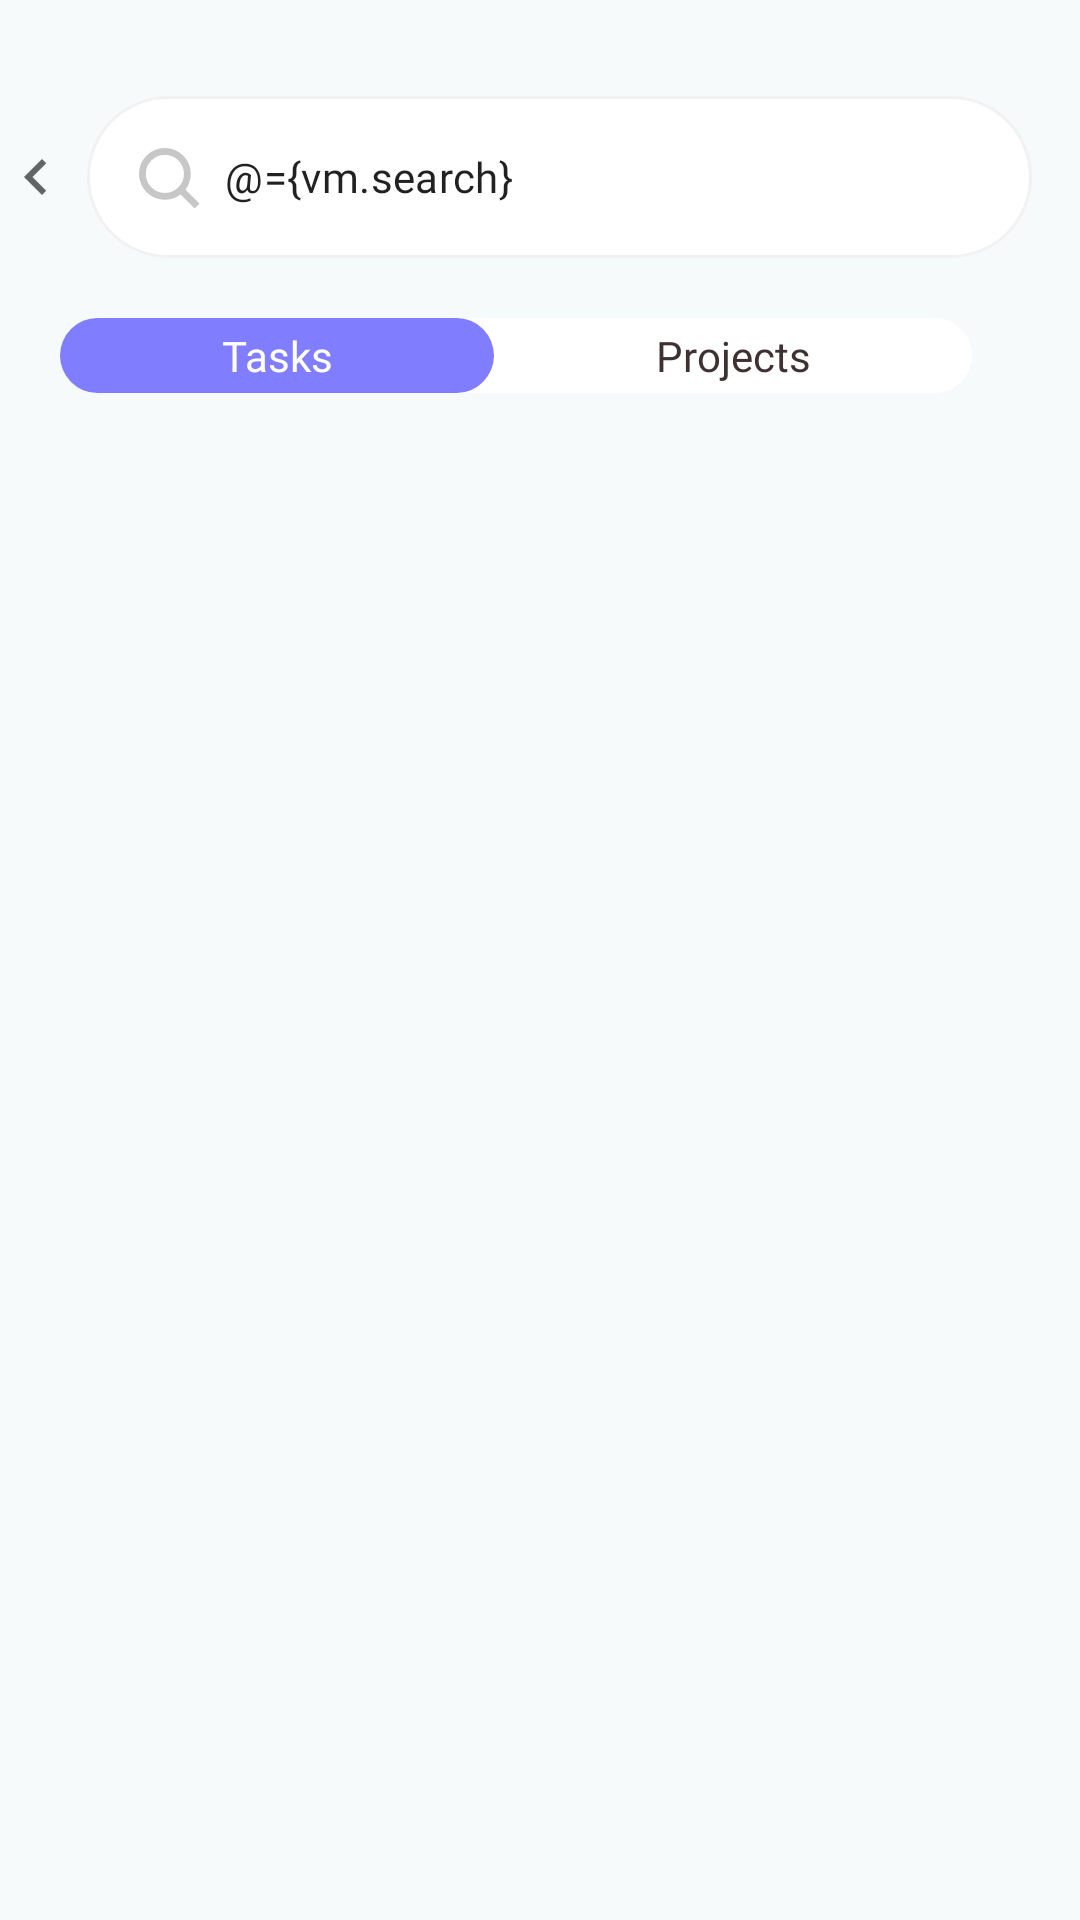

Screen size 1080px x 1920px. Icon name, then its center in pixels as (x,y):
Back arrow: (35,177)
